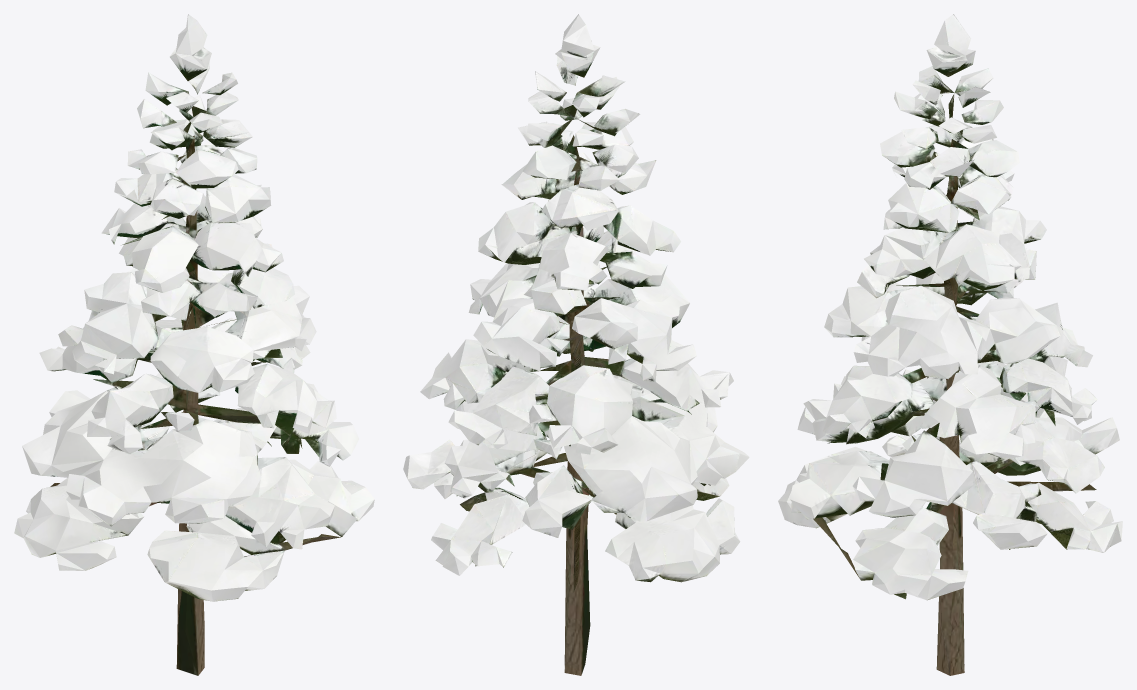
File: snow_pine.glb
The picture shows the model from 3 angles, left to right: view 1: azimuth 30°, elevation 25°; view 2: azimuth 150°, elevation 25°; view 3: azimuth 270°, elevation 25°; orthographic projection.
Visible parts, largest first — view 1: Mesh_0; view 2: Mesh_0; view 3: Mesh_0.
Boxes of the visible parts, <box> form: Mesh_0: <box>14,14,374,675</box>; Mesh_0: <box>403,14,749,675</box>; Mesh_0: <box>778,14,1122,675</box>.
Bounding box in the file's own units: 0.9227 × 1.9 × 0.9055.
Materials: 1 (1 with a texture image).
